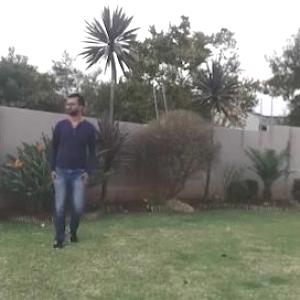follow: (38, 75, 103, 271)
